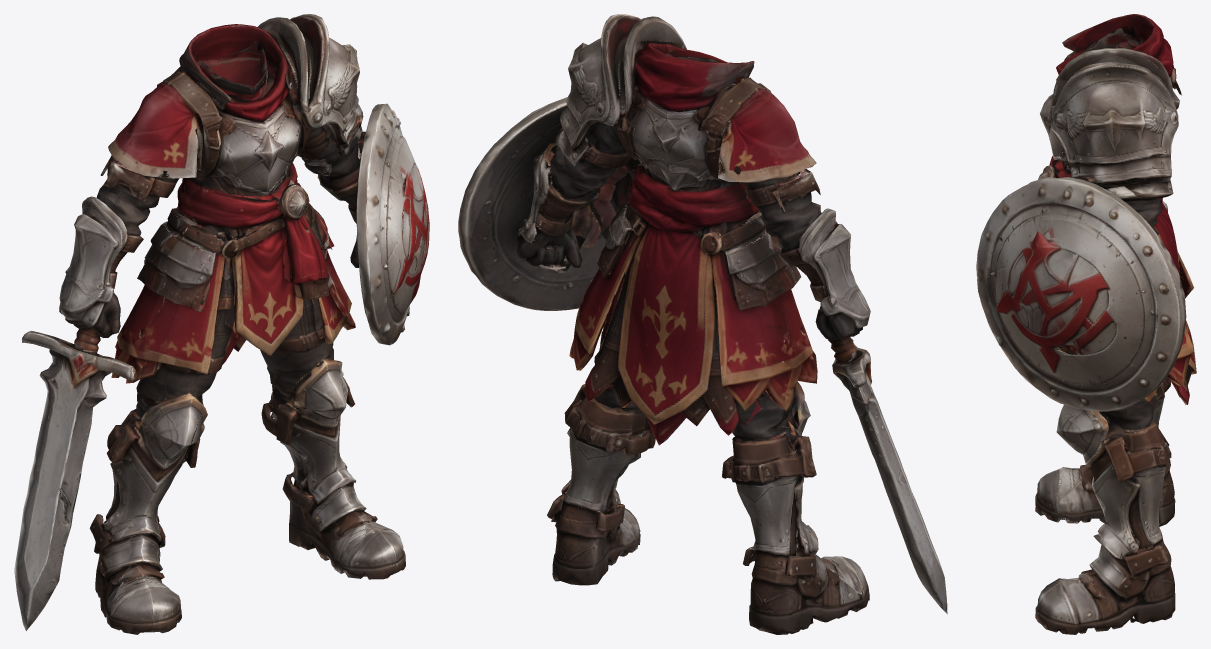
The model's file is outfit.glb.
3 views of the same model, side by side, from view 1: azimuth 30°, elevation 25°; view 2: azimuth 150°, elevation 25°; view 3: azimuth 270°, elevation 25° (orthographic).
Visible parts, largest first — view 1: texture_mapping; view 2: texture_mapping; view 3: texture_mapping.
Part boxes in pixels (left/top/right/bottom): texture_mapping: left=14, top=14, right=429, bottom=634; texture_mapping: left=458, top=14, right=947, bottom=634; texture_mapping: left=976, top=14, right=1196, bottom=634.
Bounding box in the file's own units: 0.8277 × 0.9993 × 0.3673.
Materials: 1 (1 with a texture image).
